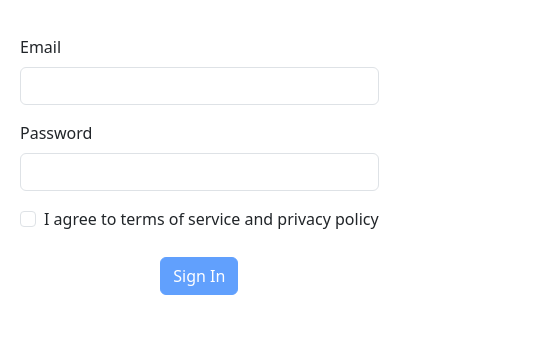
Test: Login Formu Testleri › Hatalı durumlarda beklenen hata mesajları görünüyor ve buton disabled kalıyor
Type "yanlis-email" into the field with id "email".
click(200, 86); type("yanlis-email")  # box top-left (20, 67), bottom-right (379, 105)
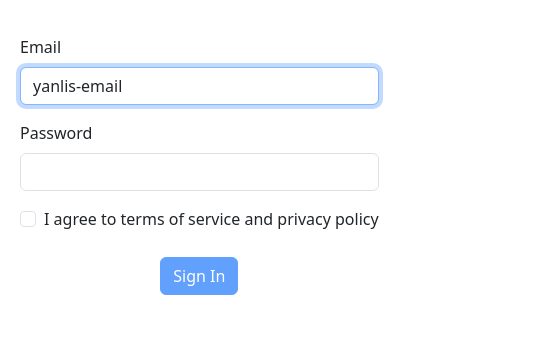
Leave the field with id "email", box top-left (20, 67), bottom-right (379, 105)
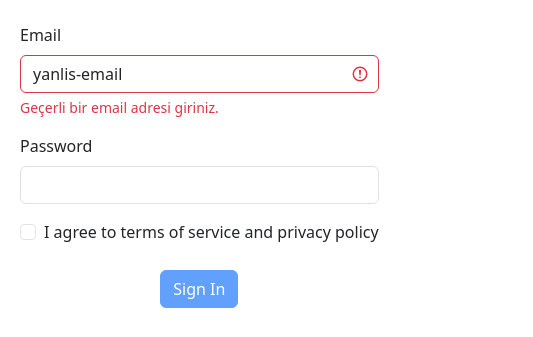
Expected: the button "Sign In" is disabled, top-left (160, 270), bottom-right (238, 308)
Result: the text "Geçerli bir email adresi giriniz." is shown at top-left (20, 98), bottom-right (219, 116)
Result: the text with class "invalid-feedback" reads "Geçerli bir email adresi giriniz." at top-left (20, 98), bottom-right (219, 117)
Type "123" into the password field labelled "Password".
click(200, 185); type("123")  # box top-left (20, 166), bottom-right (379, 204)
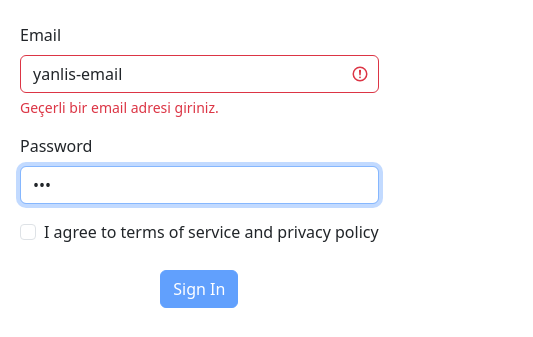
Leave the password field labelled "Password", box top-left (20, 166), bottom-right (379, 204)
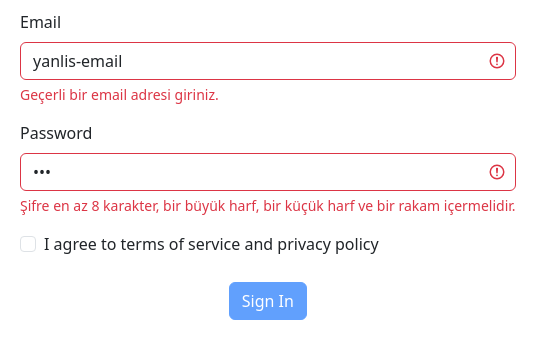
Result: the 2nd text with class "invalid-feedback" is shown at top-left (20, 195), bottom-right (516, 216)
Result: the text with class "invalid-feedback" shows "Şifre en az 8 karakter" at top-left (20, 196), bottom-right (516, 215)
